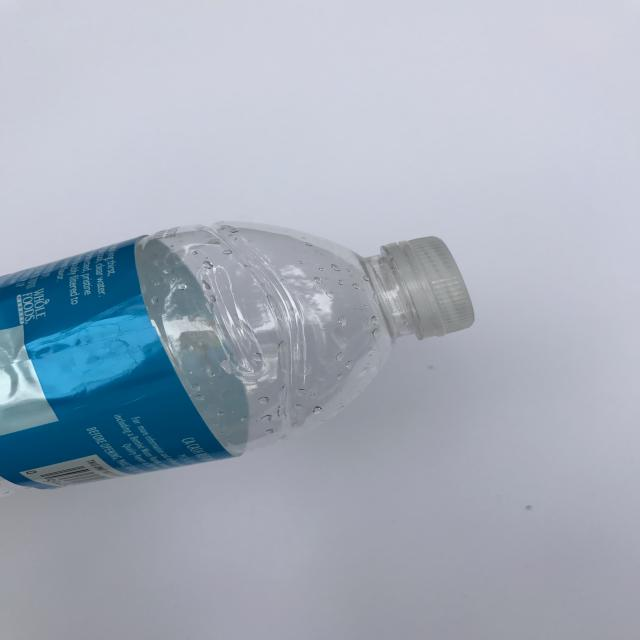Plastic: (0, 202, 505, 516)
